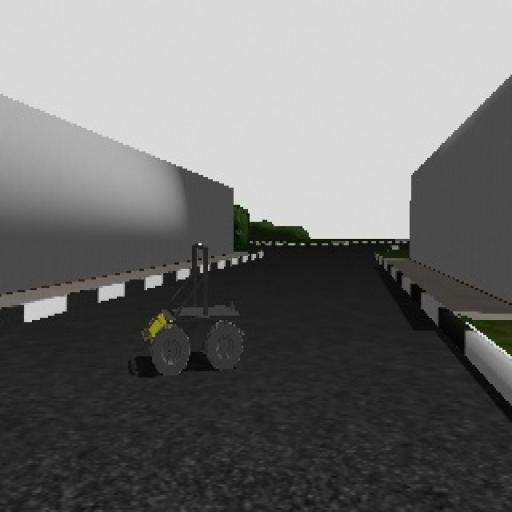huskya200: (126, 236, 250, 403)
